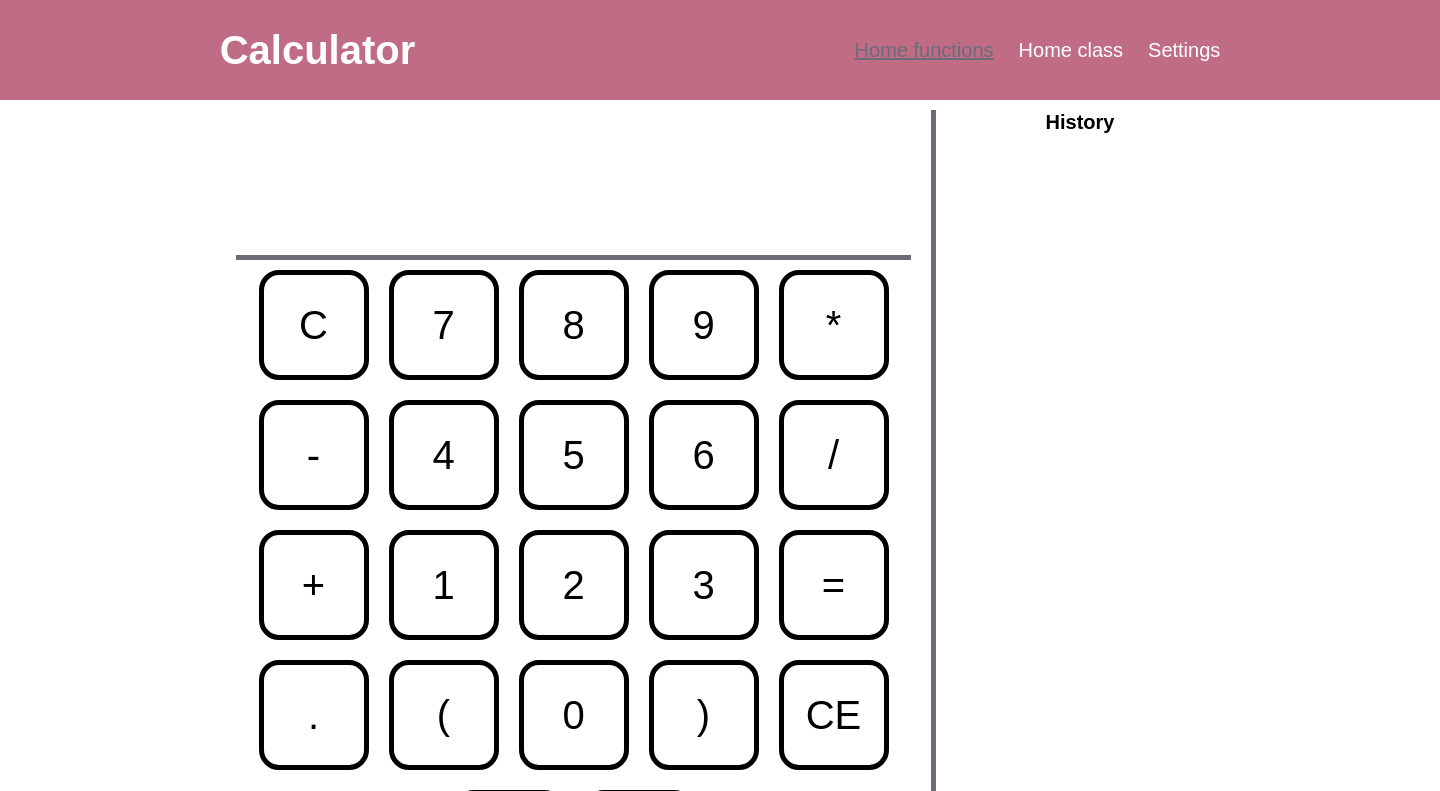
Test: Arithmetic Operation › it operation test
This screenshot has width=1440, height=791.
Click the button "2". click: (574, 585)
box: [519,530,629,640]
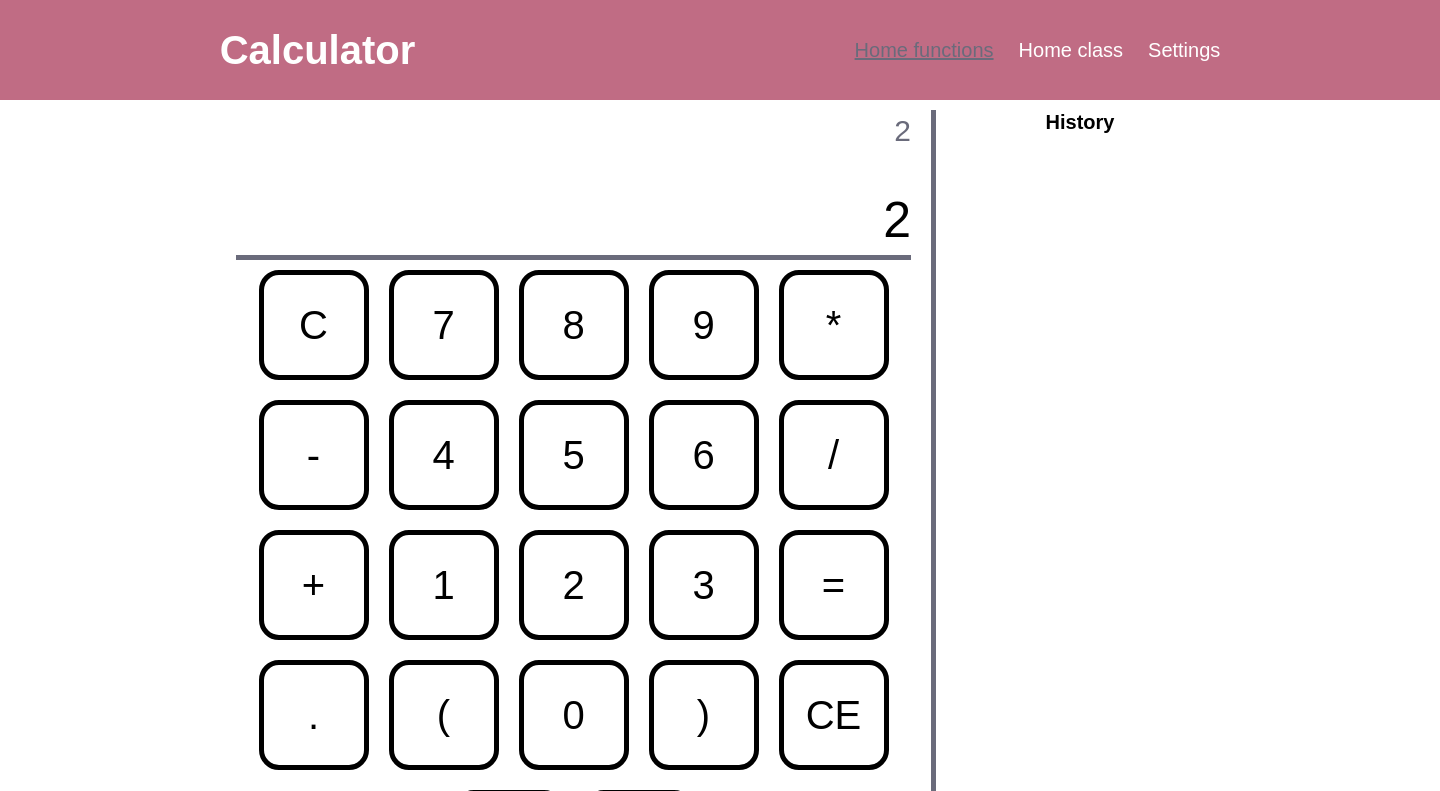
Click the button "+". click: (314, 585)
box: [259,530,369,640]
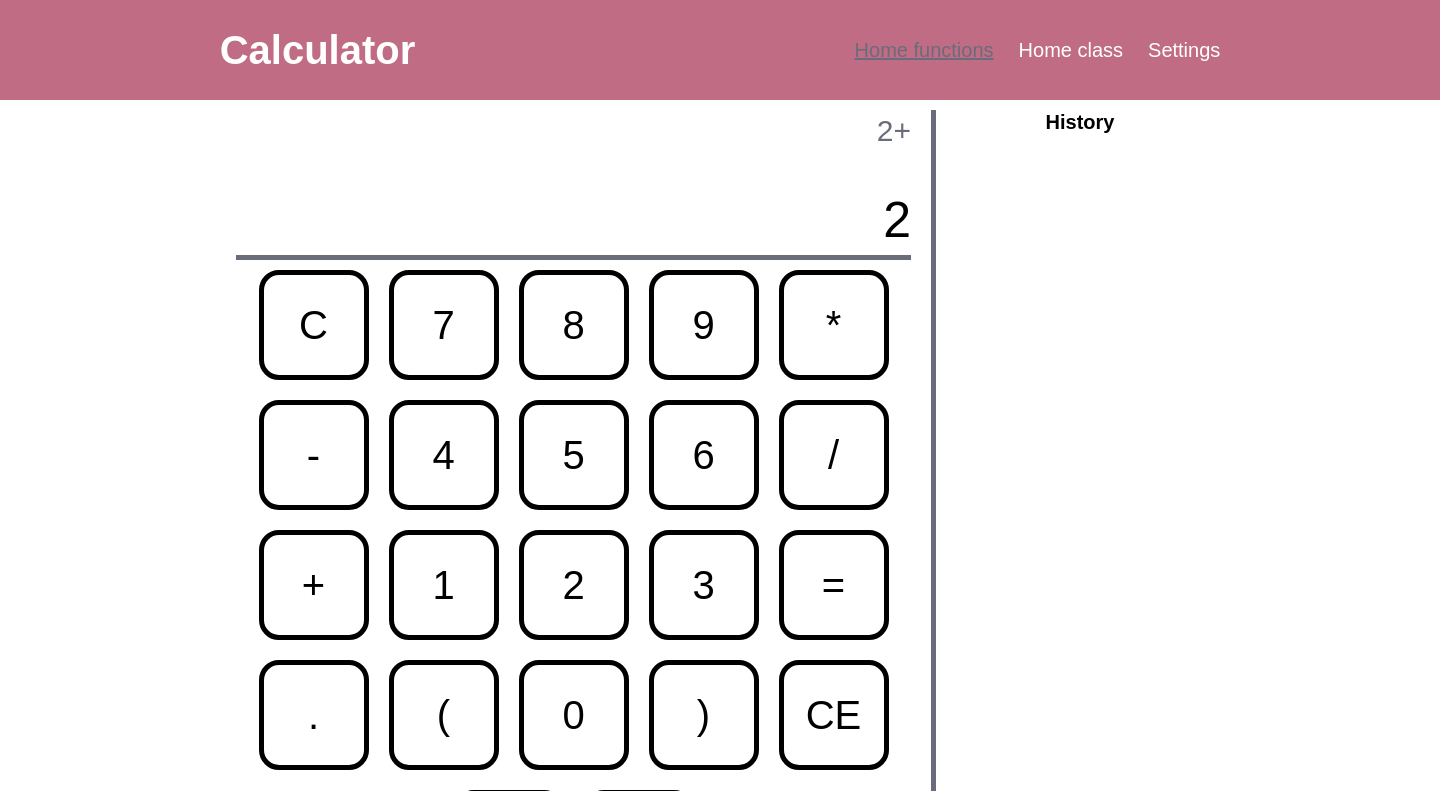
Click the button "2". click: (574, 585)
box: [519,530,629,640]
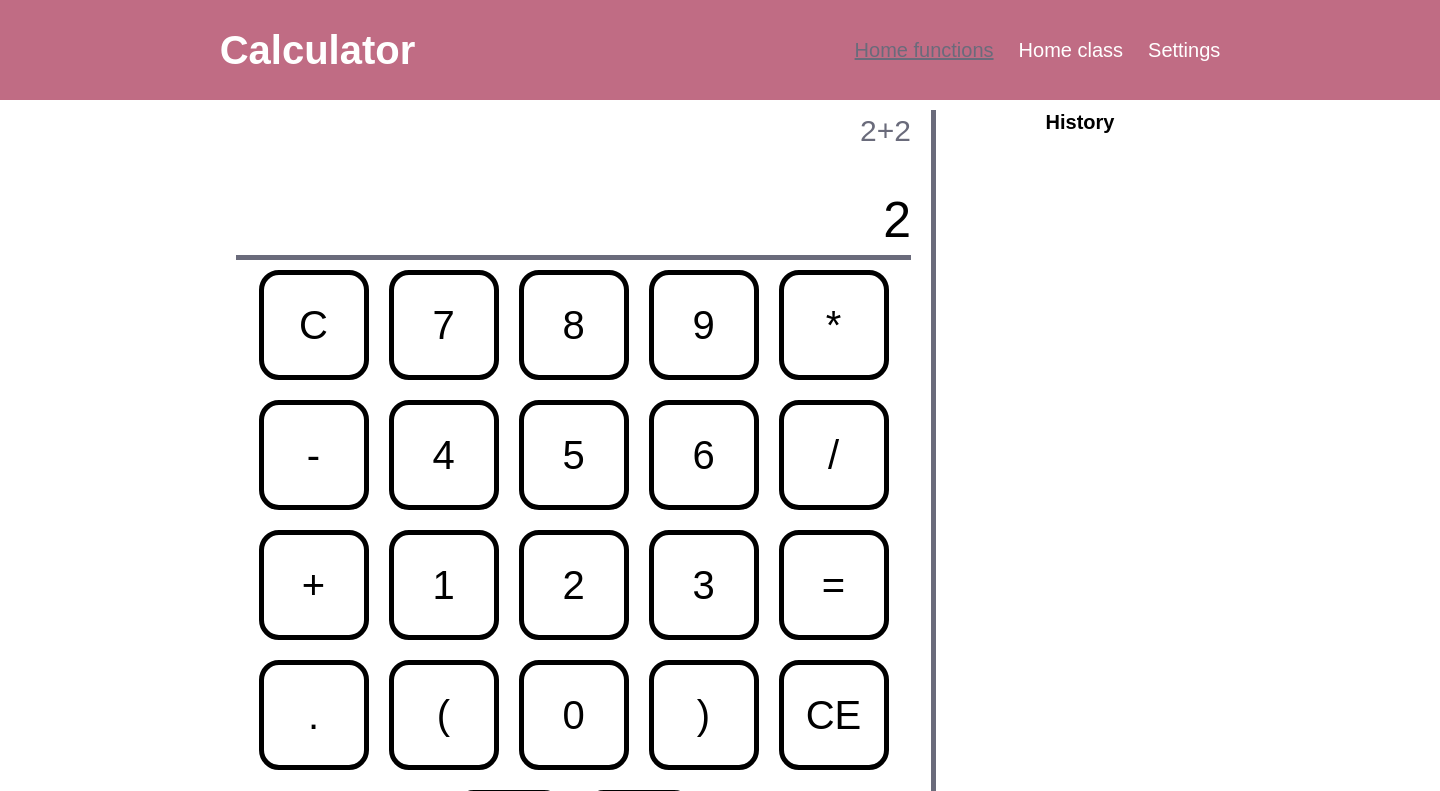
Click the button "*". click: (834, 325)
box: [779,270,889,380]
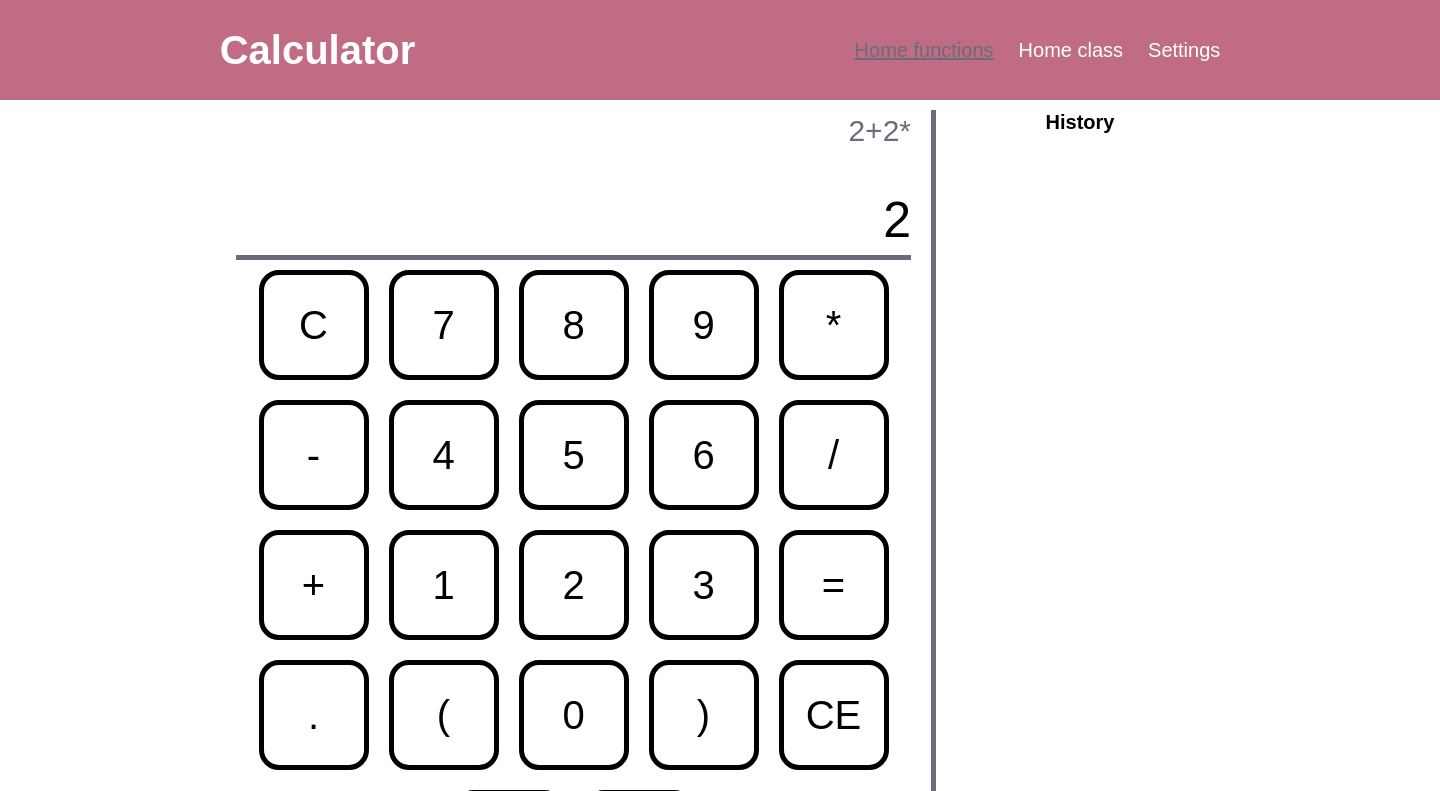
Click the button "2". click: (574, 585)
box: [519,530,629,640]
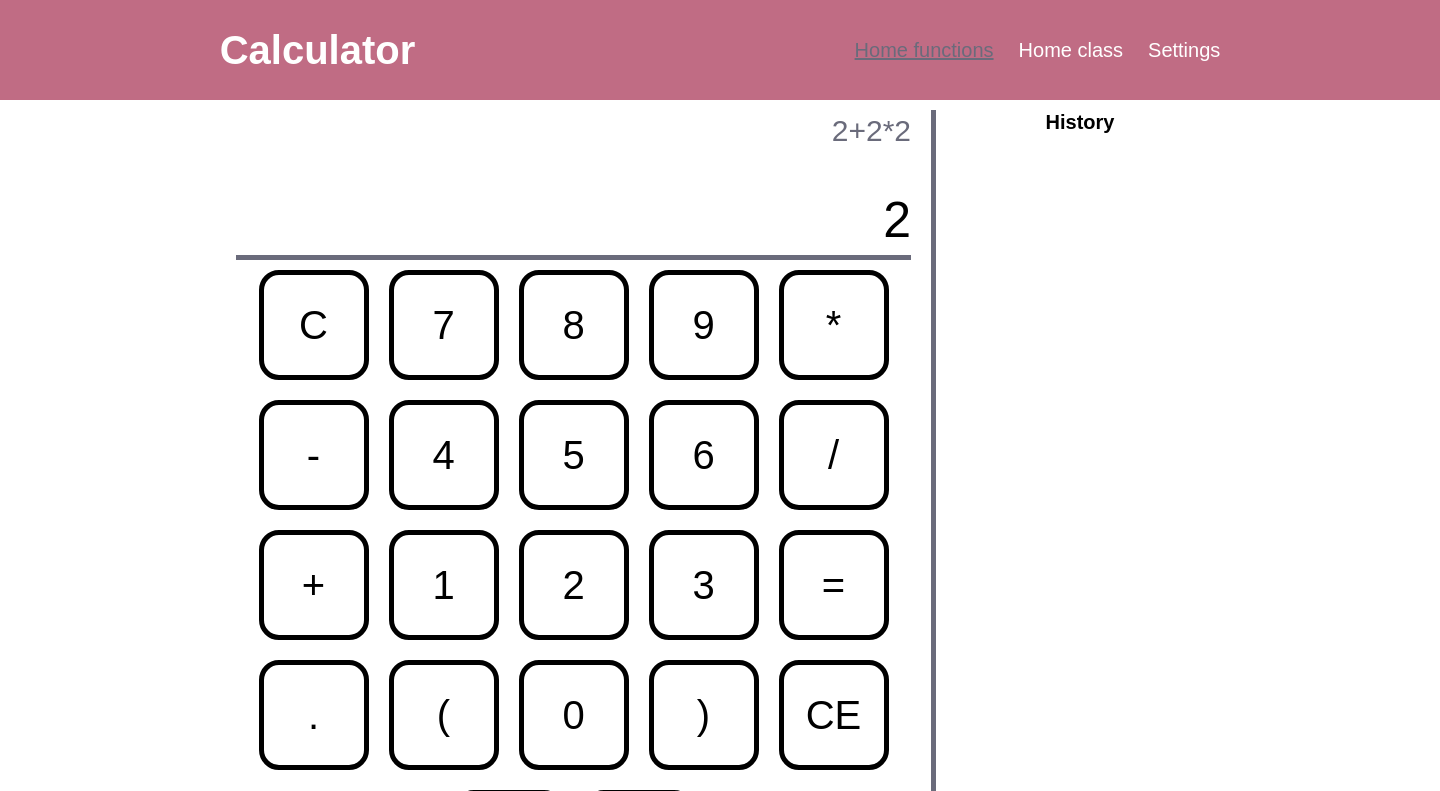
Click the button "=". click: (834, 585)
box: [779,530,889,640]
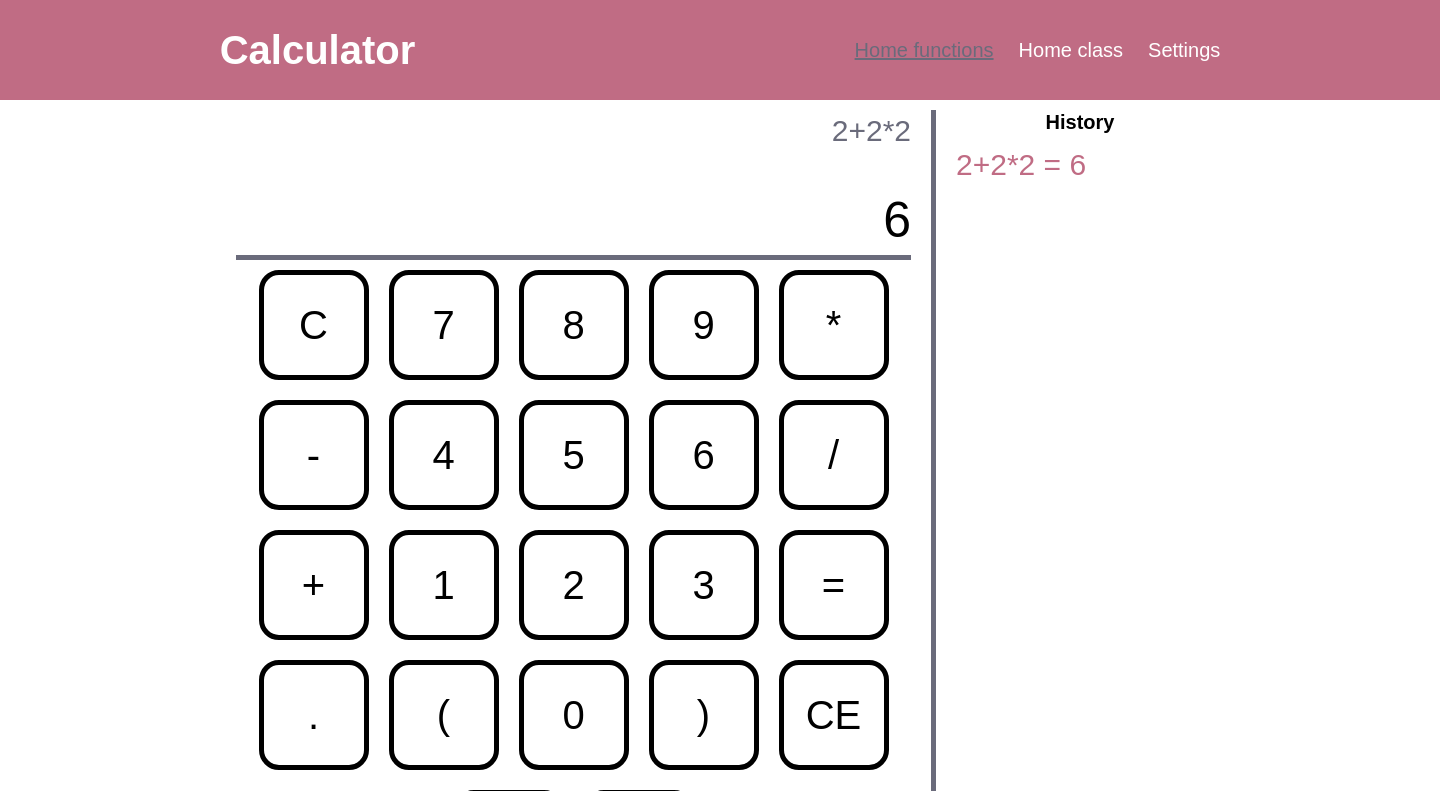
Expected: the text "2+2*2" is shown, [832,110,911,152]
Expected: the 1st text "6" is shown, [883,185,911,255]
